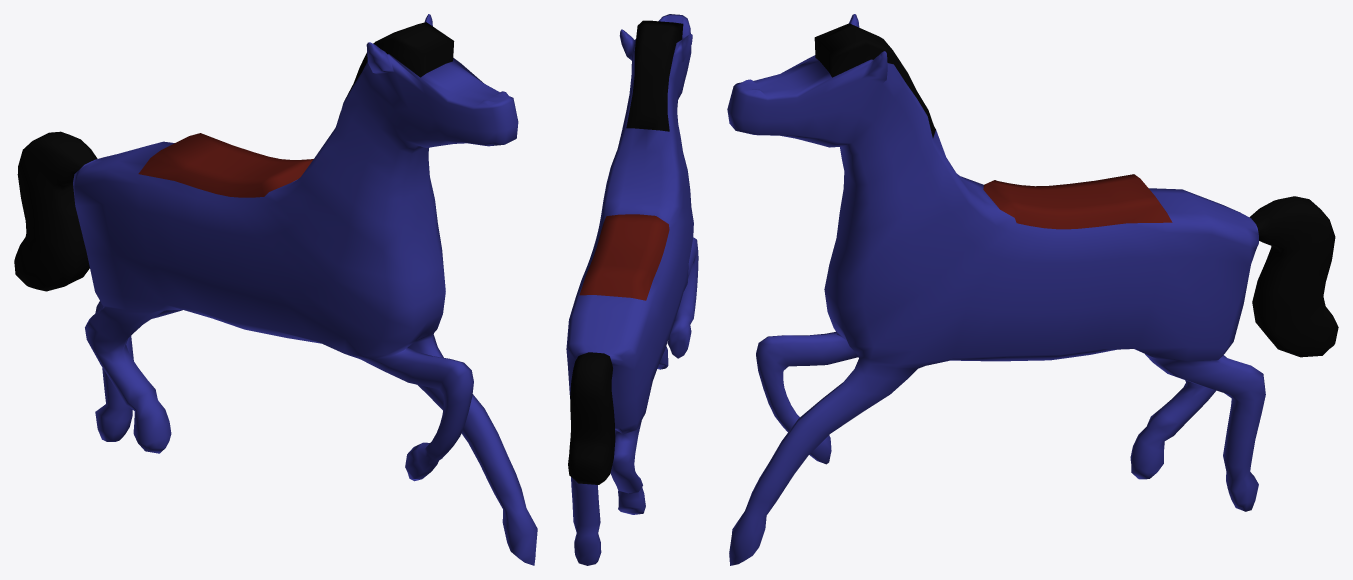
The model's file is SM_Bl_Horse.fbx.
3 views of the same model, side by side, from view 1: azimuth 30°, elevation 25°; view 2: azimuth 150°, elevation 25°; view 3: azimuth 270°, elevation 25° (orthographic). The views are drawn at different scales.
Parts seen in each view (by area): view 1: SM_Bl_Horse; view 2: SM_Bl_Horse; view 3: SM_Bl_Horse.
Boxes of the visible parts, left/top/right/bottom form: SM_Bl_Horse: left=14, top=14, right=537, bottom=565; SM_Bl_Horse: left=566, top=14, right=698, bottom=565; SM_Bl_Horse: left=727, top=14, right=1338, bottom=565.
Bounding box in the file's own units: 14.27 × 30.97 × 32.55.
